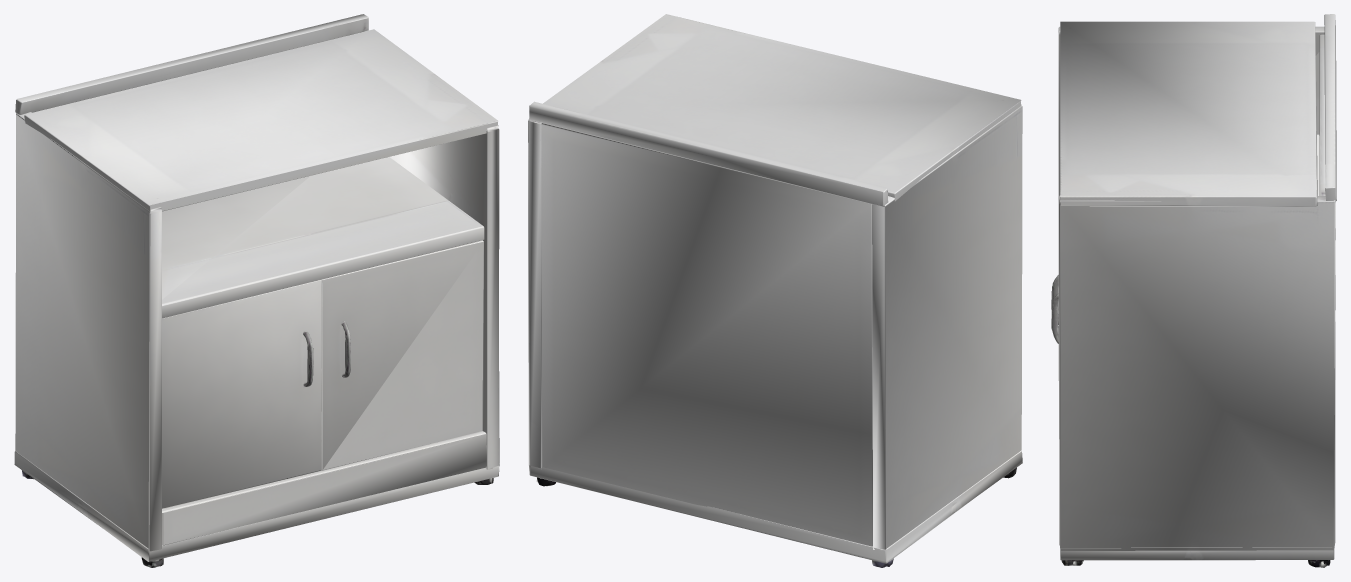
Rendered from Meshy_AI_Minimalist_White_Stor_0731081450_texture.obj.
3 views of the same model, side by side, from view 1: azimuth 30°, elevation 25°; view 2: azimuth 150°, elevation 25°; view 3: azimuth 270°, elevation 25° (orthographic). The views are drawn at different scales.
Visible parts, largest first — view 1: Meshy_AI_Minimalist_White_Stor_0731081450_texture; view 2: Meshy_AI_Minimalist_White_Stor_0731081450_texture; view 3: Meshy_AI_Minimalist_White_Stor_0731081450_texture.
Boxes of the visible parts, x1,y1,x2,y2 form: Meshy_AI_Minimalist_White_Stor_0731081450_texture: (14,14,499,567); Meshy_AI_Minimalist_White_Stor_0731081450_texture: (528,14,1022,567); Meshy_AI_Minimalist_White_Stor_0731081450_texture: (1051,14,1336,567).
Bounding box in the file's own units: 0.9824 × 0.9961 × 0.6758.
1 material, 1 textured.
